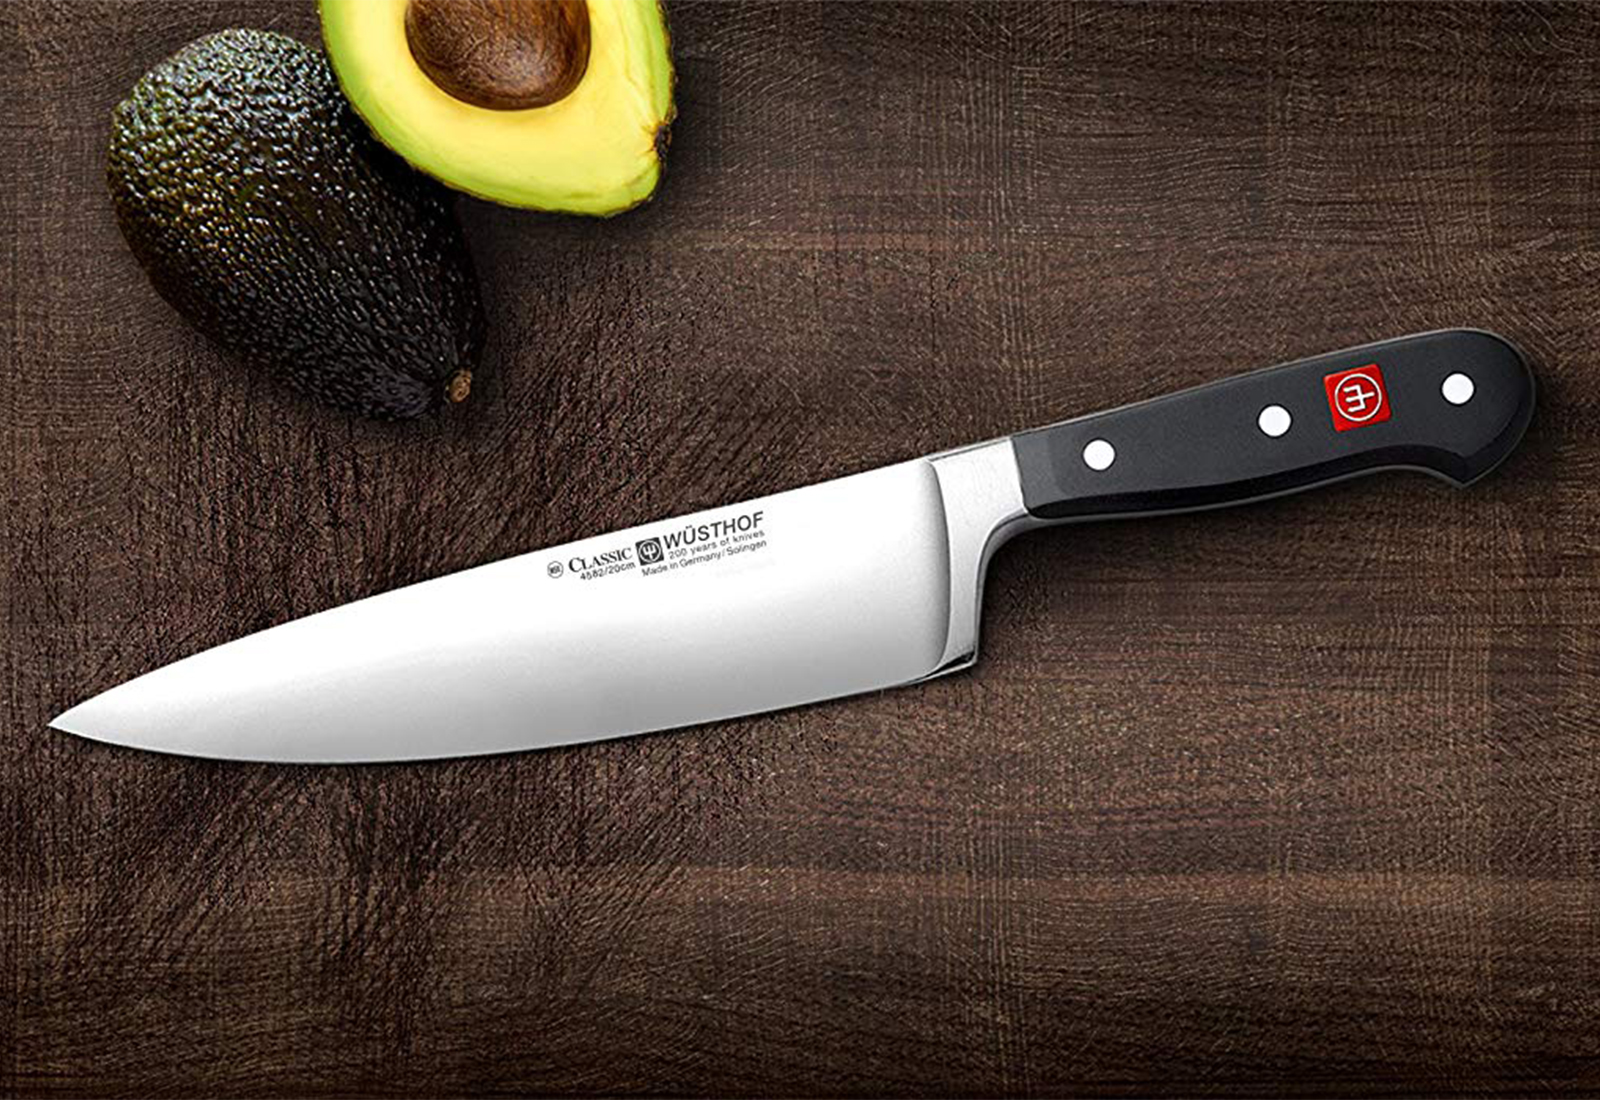knife: (45, 330, 1521, 770)
